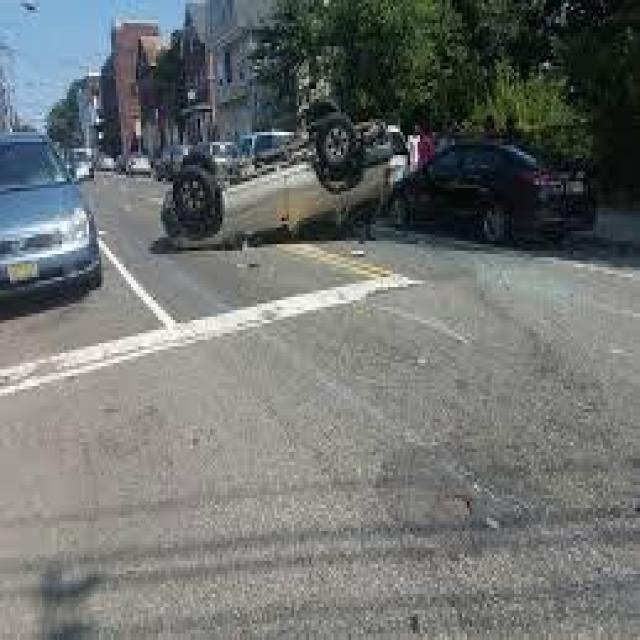severe: (157, 96, 411, 254)
